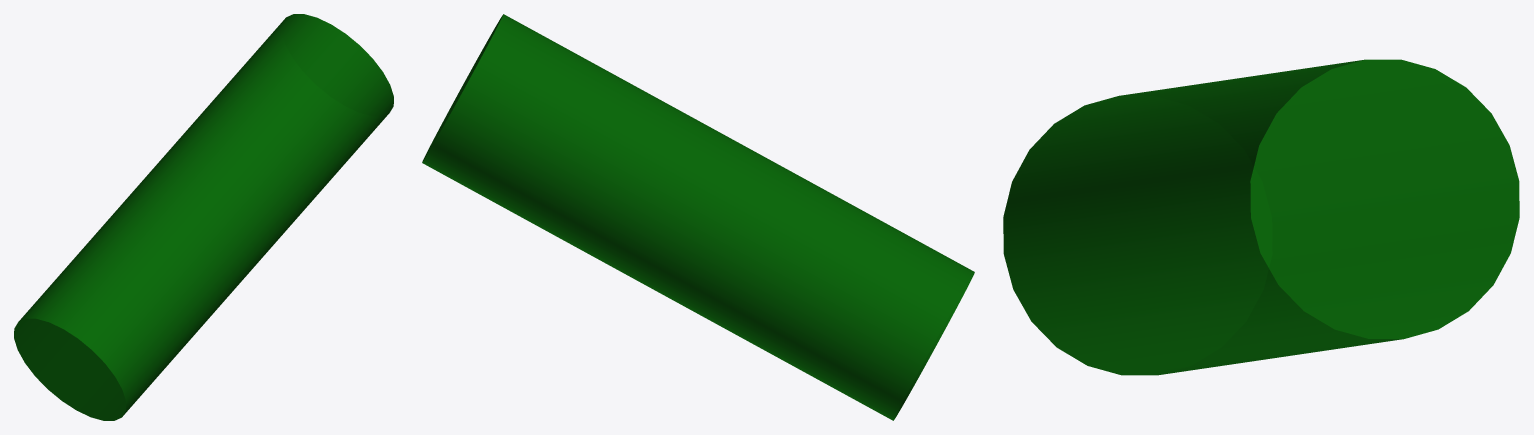
Rendered from Event_421115418_jet_6.fbx.
3 views of the same model, side by side, from view 1: azimuth 30°, elevation 25°; view 2: azimuth 150°, elevation 25°; view 3: azimuth 270°, elevation 25° (orthographic). The views are drawn at different scales.
Visible parts, largest first — view 1: Model; view 2: Model; view 3: Model.
Boxes of the visible parts, x1,y1,x2,y2 form: Model: (14,14,393,420); Model: (422,14,974,420); Model: (1003,59,1519,375).
Bounding box in the file's own units: 0.1287 × 0.0919 × 0.0732.
